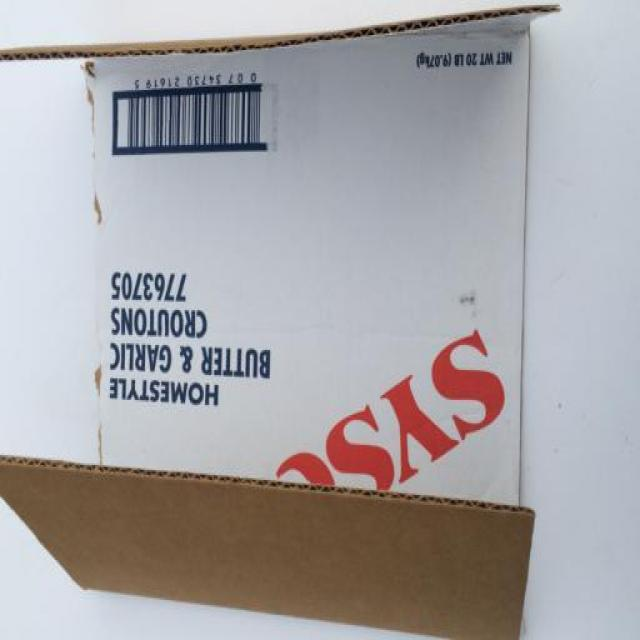cardboard: (1, 1, 565, 628)
